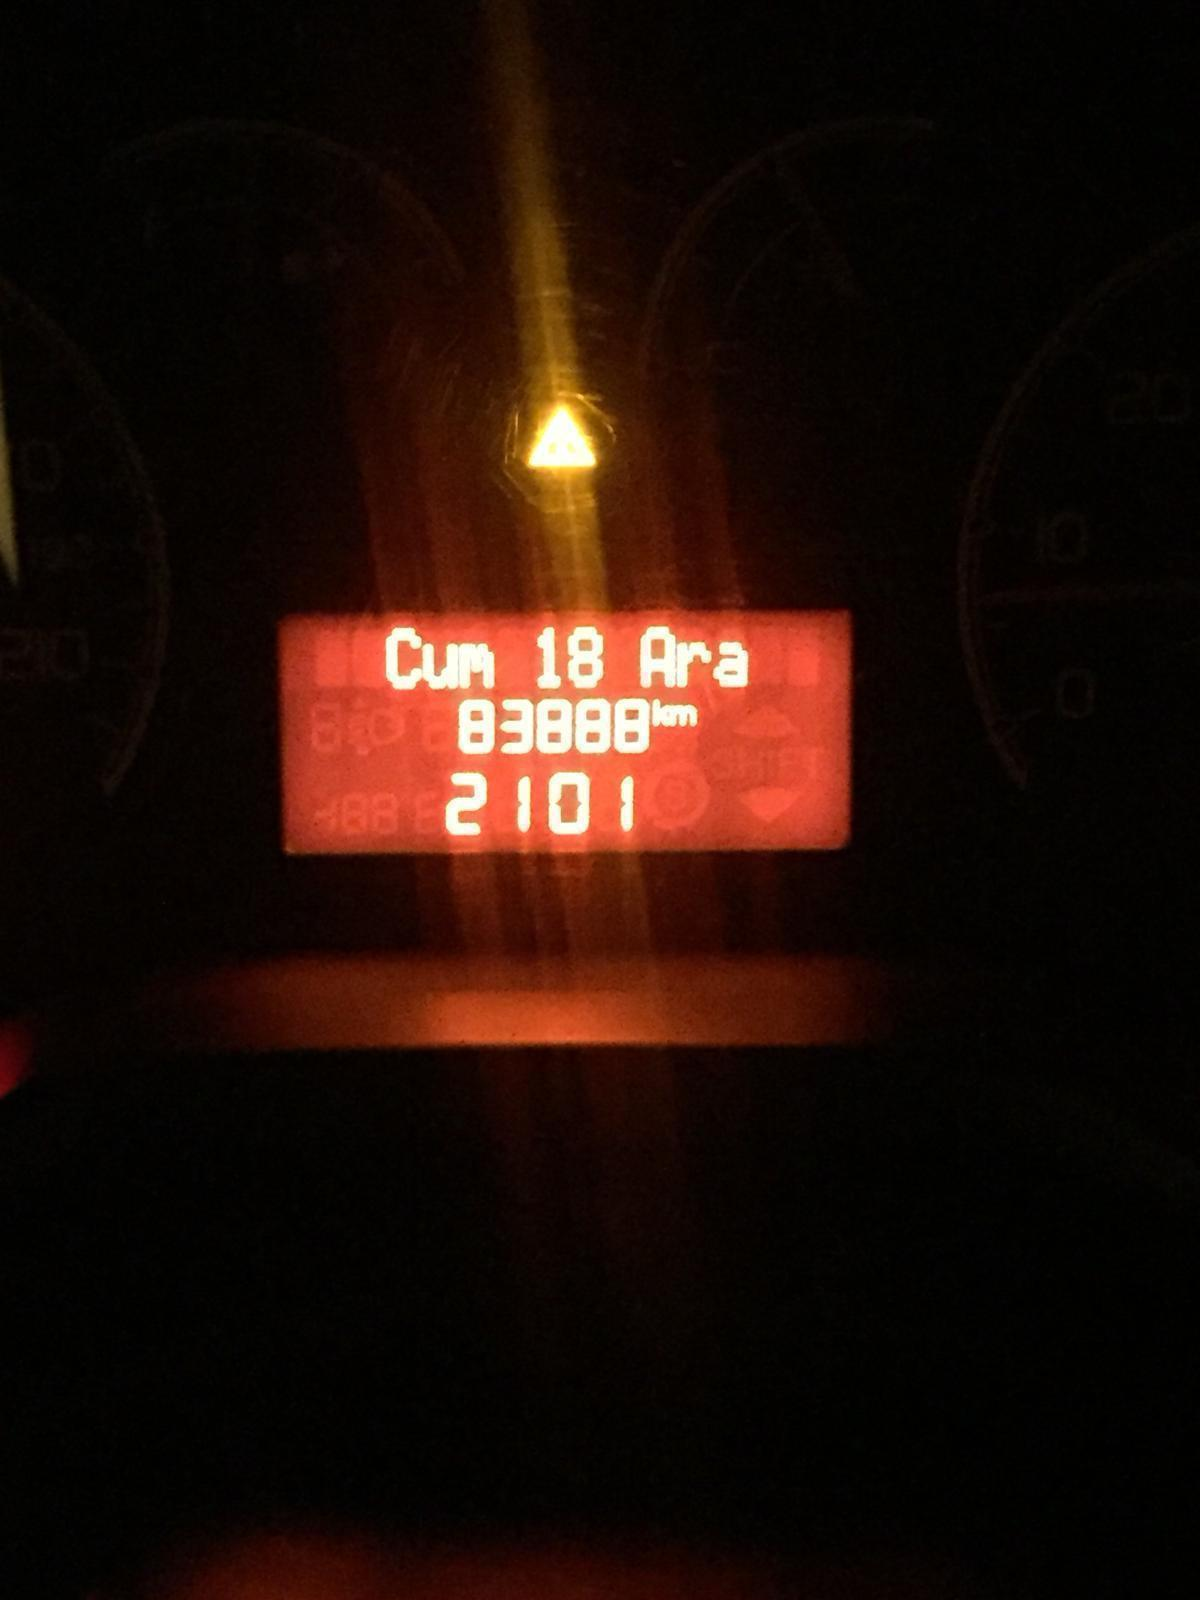0: (547, 770, 592, 837)
1: (534, 624, 563, 692), (616, 774, 637, 833), (514, 771, 533, 834)
2: (444, 769, 489, 837)
3: (499, 695, 534, 758)
8: (565, 624, 605, 690), (575, 695, 613, 753), (614, 695, 650, 755), (458, 697, 495, 753), (536, 697, 574, 753)
X: (638, 625, 677, 688), (384, 626, 421, 690), (676, 641, 715, 688), (424, 641, 459, 690), (460, 641, 495, 688), (716, 641, 750, 688), (671, 702, 698, 728), (650, 697, 669, 728)
odometer: (267, 600, 861, 864)
